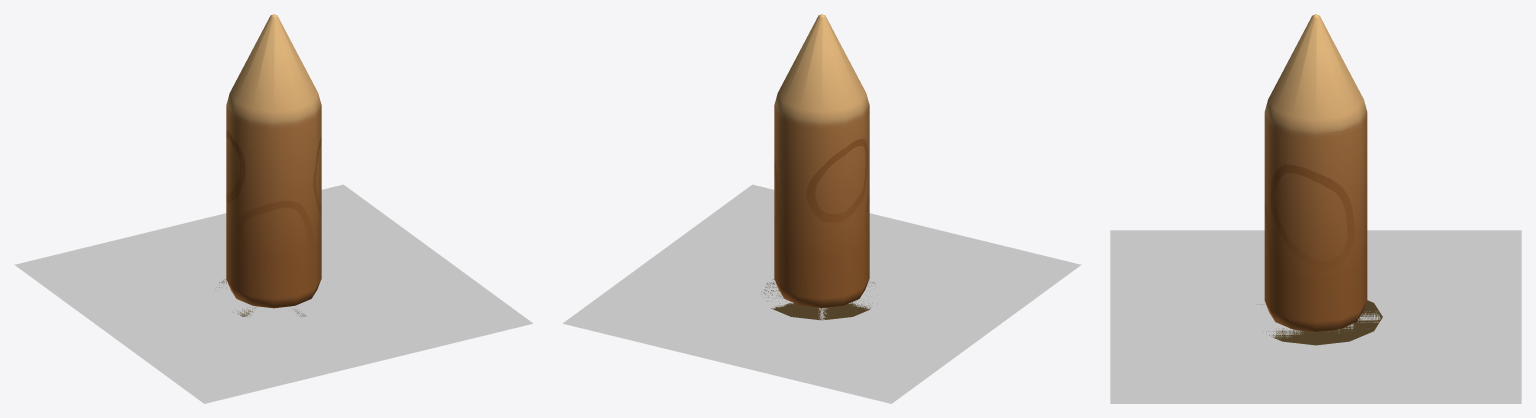
File: VK_WoodFence.fbx
3 renders of one model, left to right at view 1: azimuth 30°, elevation 25°; view 2: azimuth 150°, elevation 25°; view 3: azimuth 270°, elevation 25°, orthographic. The views are drawn at different scales.
Visible parts, largest first — view 1: Woodfence_Grid, pCylinder73; view 2: Woodfence_Grid, pCylinder73, Shadow; view 3: Woodfence_Grid, pCylinder73, Shadow.
Part boxes in pixels (bbox=[...]): Woodfence_Grid: bbox=[14, 184, 532, 403]; pCylinder73: bbox=[226, 14, 321, 308]; Woodfence_Grid: bbox=[563, 184, 1081, 403]; pCylinder73: bbox=[774, 14, 869, 308]; Shadow: bbox=[761, 279, 874, 320]; Woodfence_Grid: bbox=[1110, 230, 1521, 403]; pCylinder73: bbox=[1264, 14, 1367, 332]; Shadow: bbox=[1260, 300, 1382, 345].
Bounding box in the file's own units: 1 × 0.8134 × 1.
